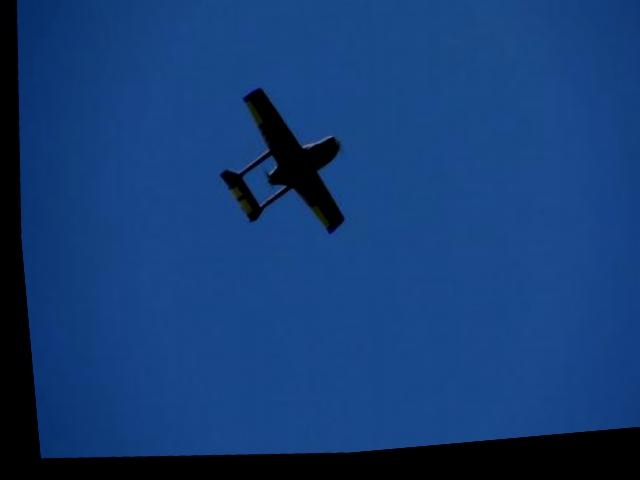uav: (204, 80, 350, 252)
